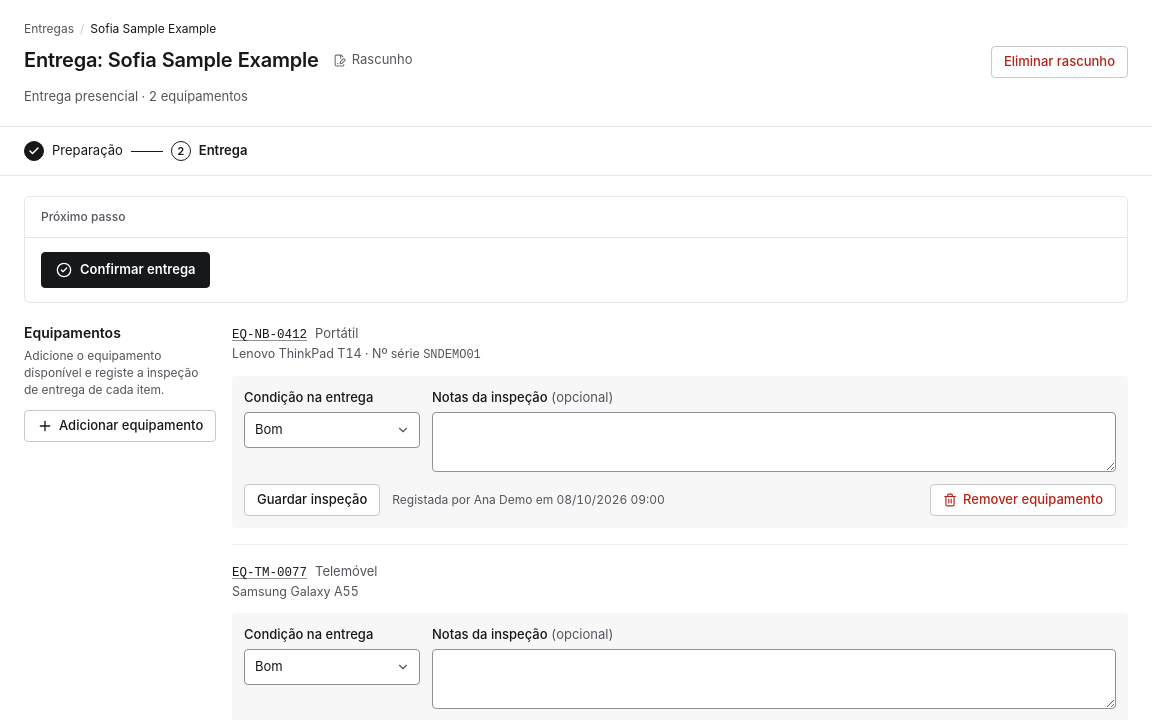
HandoverDetailPage — Draft › shows a rejected add inside the dialog
Click the button "Adicionar equipamento": [120, 426] box x1=24 y1=410 x2=216 y2=442
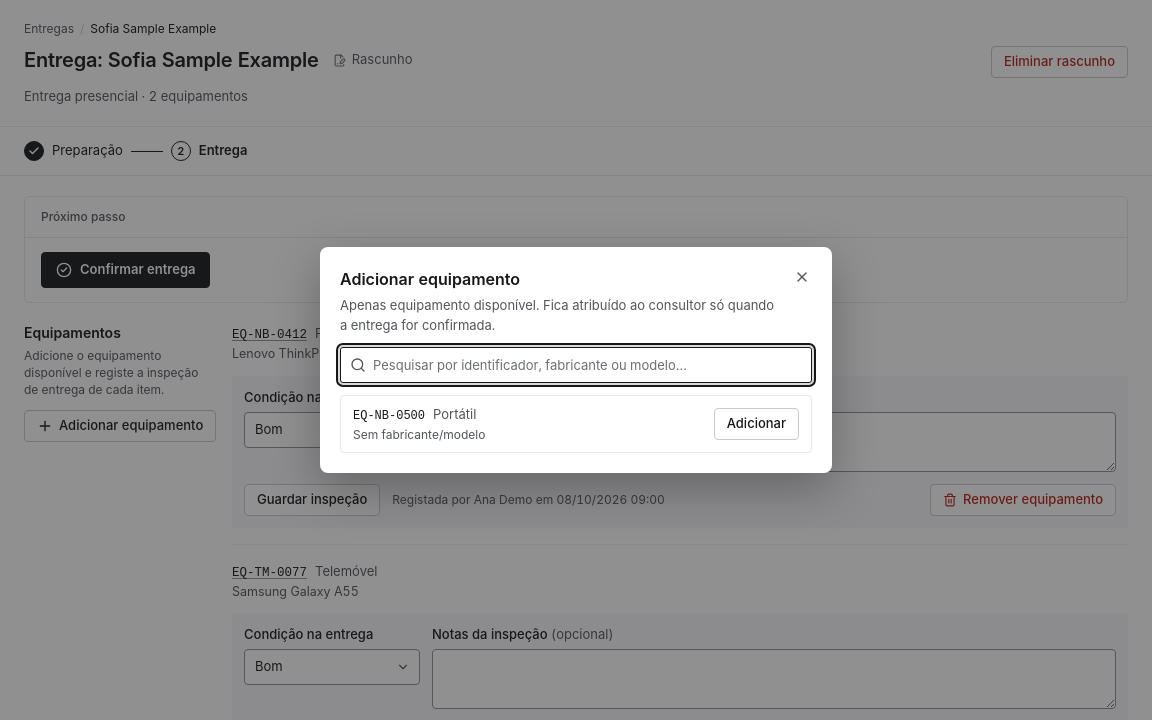
Click the button with aria-label "Adicionar EQ-NB-0500": [756, 424] box x1=714 y1=408 x2=799 y2=440
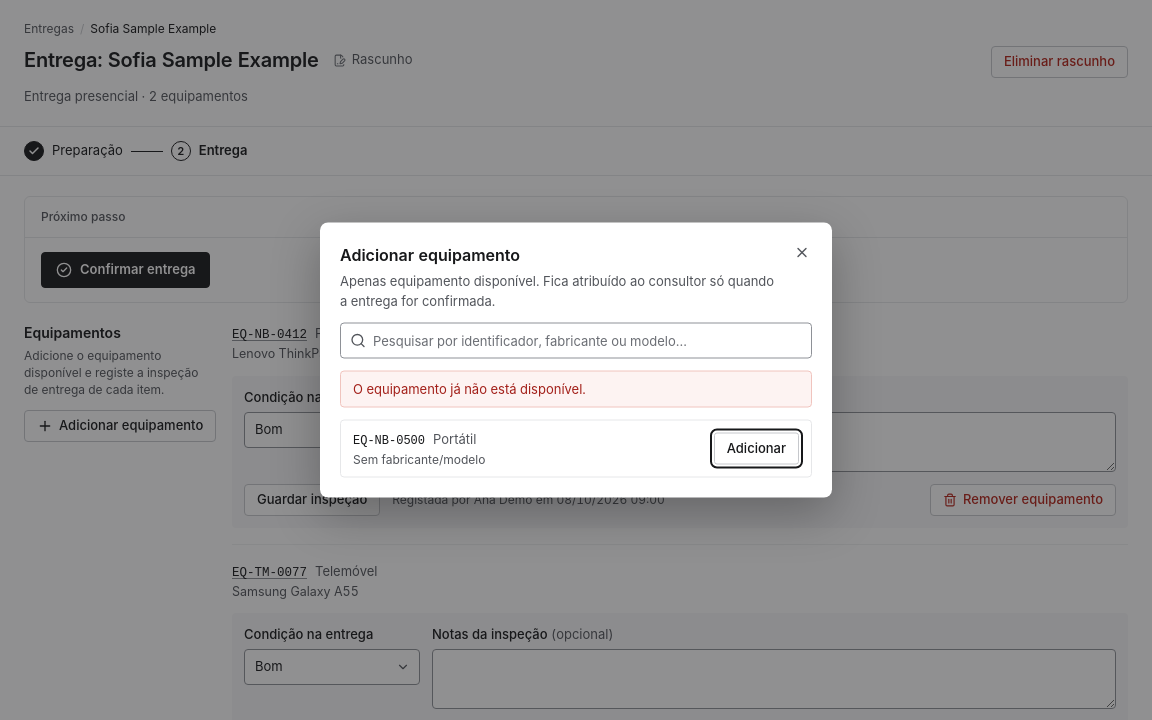
Result: the message reads "O equipamento já não está disponível." at x1=353 y1=380 x2=586 y2=396
